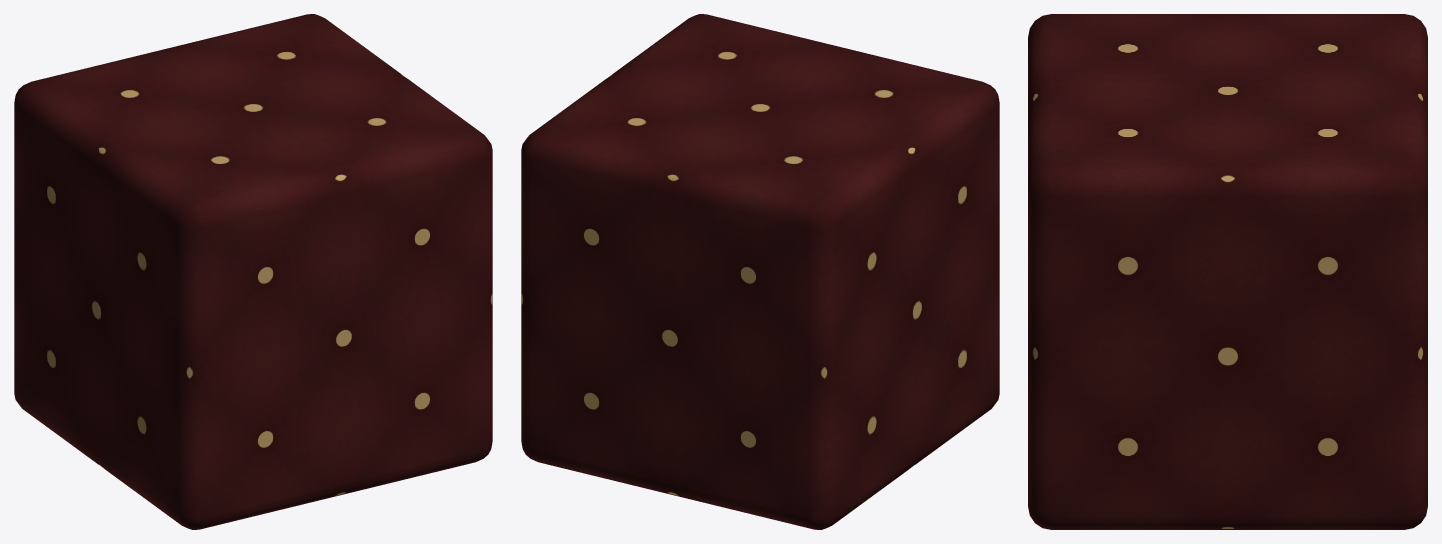
The model's file is cushion.obj.
3 renders of one model, left to right at view 1: azimuth 30°, elevation 25°; view 2: azimuth 150°, elevation 25°; view 3: azimuth 270°, elevation 25°, orthographic. The views are drawn at different scales.
Visible parts, largest first — view 1: ChamferBox003; view 2: ChamferBox003; view 3: ChamferBox003.
Boxes of the visible parts, <box> form: ChamferBox003: <box>14,14,492,529</box>; ChamferBox003: <box>521,14,999,529</box>; ChamferBox003: <box>1028,14,1427,529</box>.
Size of the model in its own units: 170 by 170 by 170.
